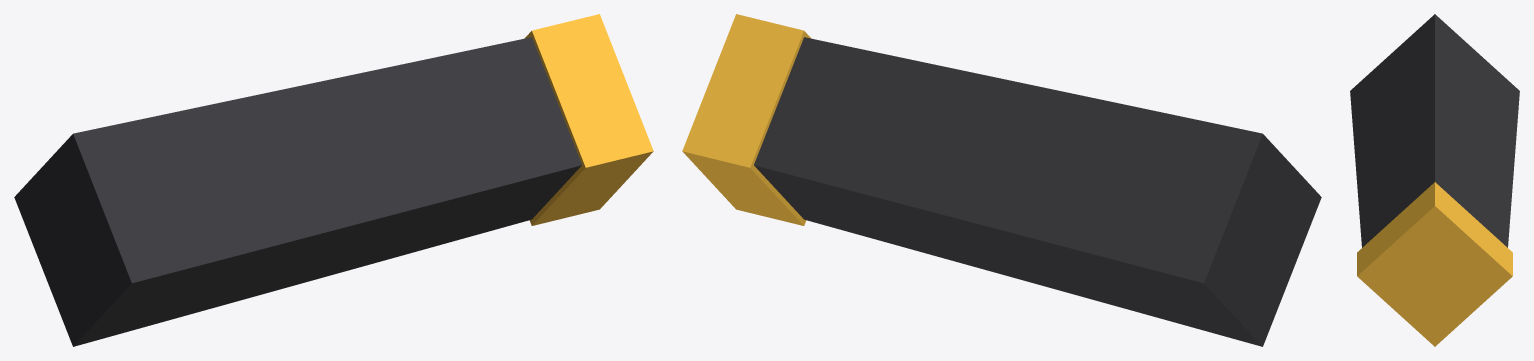
File: mini_lod2.glb
3 renders of one model, left to right at view 1: azimuth 30°, elevation 25°; view 2: azimuth 150°, elevation 25°; view 3: azimuth 270°, elevation 25°, orthographic. The views are drawn at different scales.
Parts seen in each view (by area): view 1: mini_lod2; view 2: mini_lod2; view 3: mini_lod2.
Boxes of the visible parts, box(x1,y1,x2,y2) form: mini_lod2: box(14, 14, 653, 346); mini_lod2: box(682, 14, 1321, 346); mini_lod2: box(1350, 14, 1519, 346).
Size of the model in its own units: 0.031 by 0.012 by 0.012.
